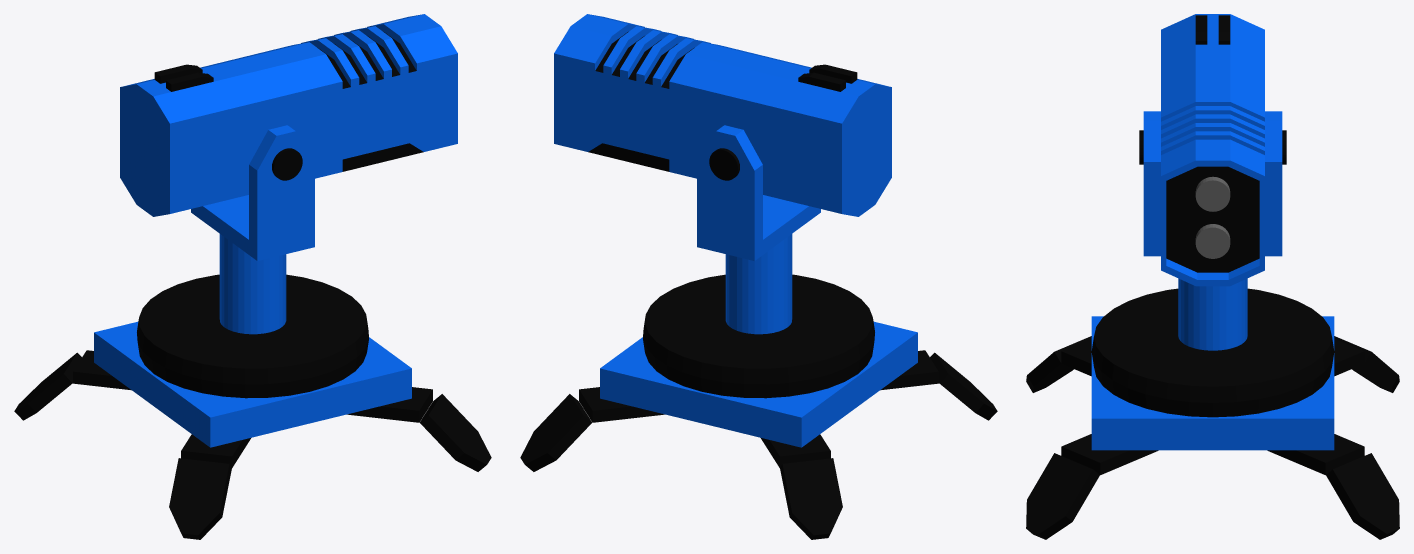
File: Turret.fbx
The picture shows the model from 3 angles, left to right: view 1: azimuth 30°, elevation 25°; view 2: azimuth 150°, elevation 25°; view 3: azimuth 270°, elevation 25°; orthographic projection. The views are drawn at different scales.
Parts seen in each view (by area): view 1: Base Turret, Base Sphere, Base, Legs, Base Turret 2, Pole, Base Turret 2 Screw; view 2: Base Turret, Base Sphere, Base, Legs, Base Turret 2, Pole, Base Turret 2 Screw; view 3: Base Turret, Base Sphere, Legs, Base, Base Turret 2, Pole, Turret Barrels.
Boxes of the visible parts, x1=… form: Base Turret: x1=120, y1=14, x2=457, y2=216; Base Sphere: x1=137, y1=274, x2=368, y2=398; Base: x1=94, y1=321, x2=411, y2=447; Legs: x1=14, y1=350, x2=491, y2=539; Base Turret 2: x1=191, y1=125, x2=314, y2=260; Pole: x1=219, y1=234, x2=286, y2=334; Base Turret 2 Screw: x1=272, y1=148, x2=302, y2=180; Base Turret: x1=554, y1=14, x2=891, y2=216; Base Sphere: x1=643, y1=274, x2=874, y2=398; Base: x1=600, y1=321, x2=917, y2=447; Legs: x1=520, y1=350, x2=997, y2=539; Base Turret 2: x1=697, y1=125, x2=820, y2=260; Pole: x1=725, y1=234, x2=792, y2=334; Base Turret 2 Screw: x1=709, y1=148, x2=739, y2=180; Base Turret: x1=1161, y1=14, x2=1264, y2=286; Base Sphere: x1=1091, y1=288, x2=1334, y2=417; Legs: x1=1026, y1=336, x2=1399, y2=539; Base: x1=1091, y1=316, x2=1334, y2=450; Base Turret 2: x1=1143, y1=111, x2=1282, y2=256; Pole: x1=1178, y1=278, x2=1247, y2=350; Turret Barrels: x1=1195, y1=176, x2=1230, y2=258.
Bounding box in the file's own units: 466 × 513 × 431.
8 materials, 8 textured.
